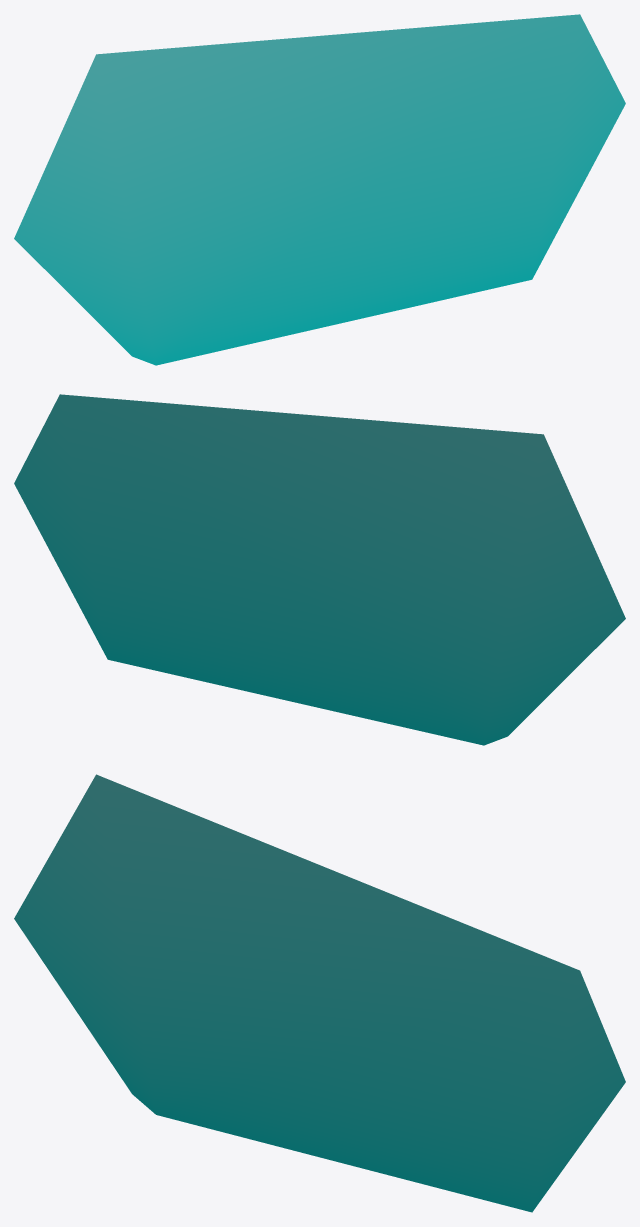
The model's file is Sea_Thrift_vkbgaihha_Mid_vkbgaihha_VarD_LOD3.fbx.
3 views of the same model, one above another, from view 1: azimuth 30°, elevation 25°; view 2: azimuth 150°, elevation 25°; view 3: azimuth 330°, elevation 25° (orthographic).
Visible parts, largest first — view 1: _wi0m_VarD_LOD4; view 2: _wi0m_VarD_LOD4; view 3: _wi0m_VarD_LOD4.
Boxes of the visible parts, x1,y1,x2,y2 form: _wi0m_VarD_LOD4: (14, 14, 625, 365); _wi0m_VarD_LOD4: (14, 394, 625, 745); _wi0m_VarD_LOD4: (14, 774, 625, 1212).
Bounding box in the file's own units: 34.11 × 17.67 × 0.
